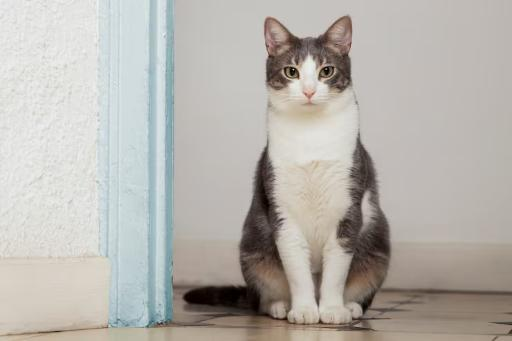cat_sitting: (184, 16, 390, 323)
